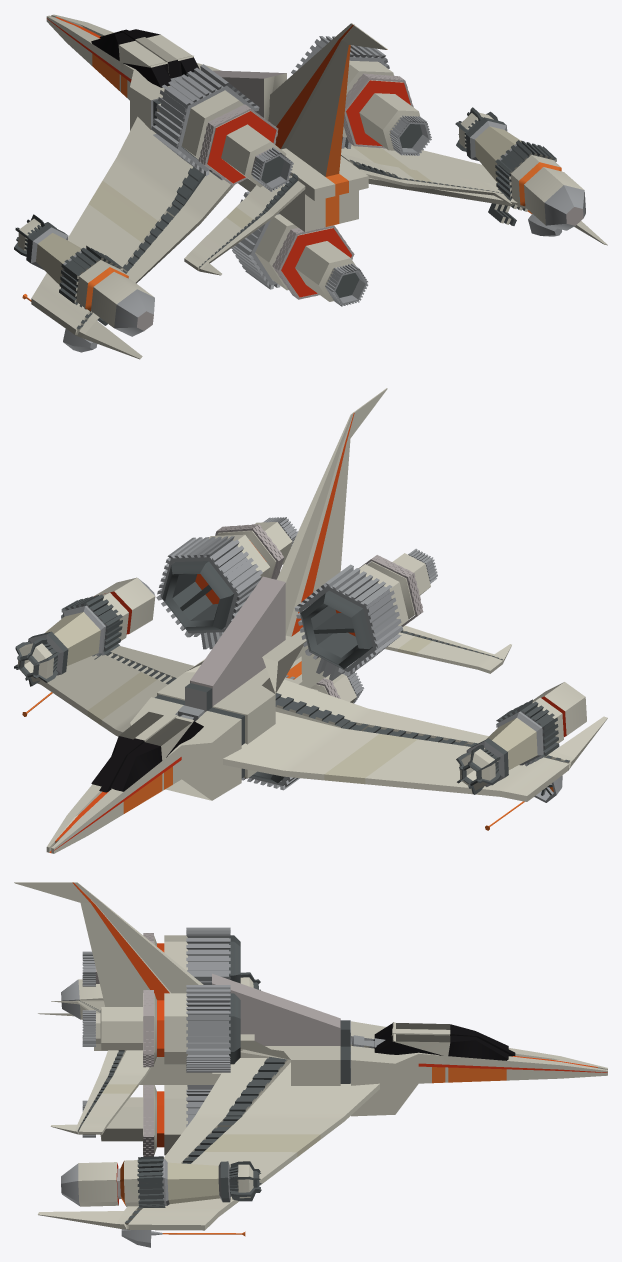
Rendered from nave Comprimida.fbx.
3 renders of one model, top to bottom at view 1: azimuth 30°, elevation 25°; view 2: azimuth 150°, elevation 25°; view 3: azimuth 270°, elevation 25°, orthographic. The views are drawn at different scales.
Visible parts, largest first — view 1: izq, pPipe3 (×3), polySurface1, canon2, canon1, polySurface2, pPipe5 (×3), der, pPipe7 (×3), pPipe8 (×3), pPipe9; view 2: izq, polySurface1, polySurface2, pPipe3 (×3), pPipe5 (×2), canon2, der, canon1, pPipe8 (×2); view 3: der, polySurface1, polySurface2, pPipe3 (×3), canon2, pPipe5 (×3), pPipe8 (×2), canon1, pPipe2, pPipe7.
Boxes of the visible parts, x1,y1,x2,y2 form: izq: (31,116,305,359); pPipe3 (×3): (181,60,422,301); polySurface1: (153,23,387,232); canon2: (455,107,585,230); canon1: (14,214,154,336); polySurface2: (46,14,220,130); pPipe5 (×3): (151,36,389,289); der: (341,144,607,245); pPipe7 (×3): (251,115,431,306); pPipe8 (×3): (198,73,413,299); pPipe9: (22,294,97,352); izq: (223,625,607,801); polySurface1: (155,388,387,778); polySurface2: (46,697,241,853); pPipe3 (×3): (162,522,430,783); pPipe5 (×2): (156,536,403,680); canon2: (14,577,155,686); der: (37,646,193,736); canon1: (456,682,586,794); pPipe8 (×2): (215,524,423,626); der: (37,1050,379,1230); polySurface1: (14,882,350,1085); polySurface2: (350,1021,607,1116); pPipe3 (×3): (95,935,240,1155); canon2: (61,1156,261,1207); pPipe5 (×3): (186,927,230,1127); pPipe8 (×2): (143,990,153,1156); canon1: (61,972,260,1019); pPipe2: (121,1229,245,1247); pPipe7: (82,1010,95,1046).
Size of what is drawn, in the model's own units: 14 by 8.28 by 16.46.
